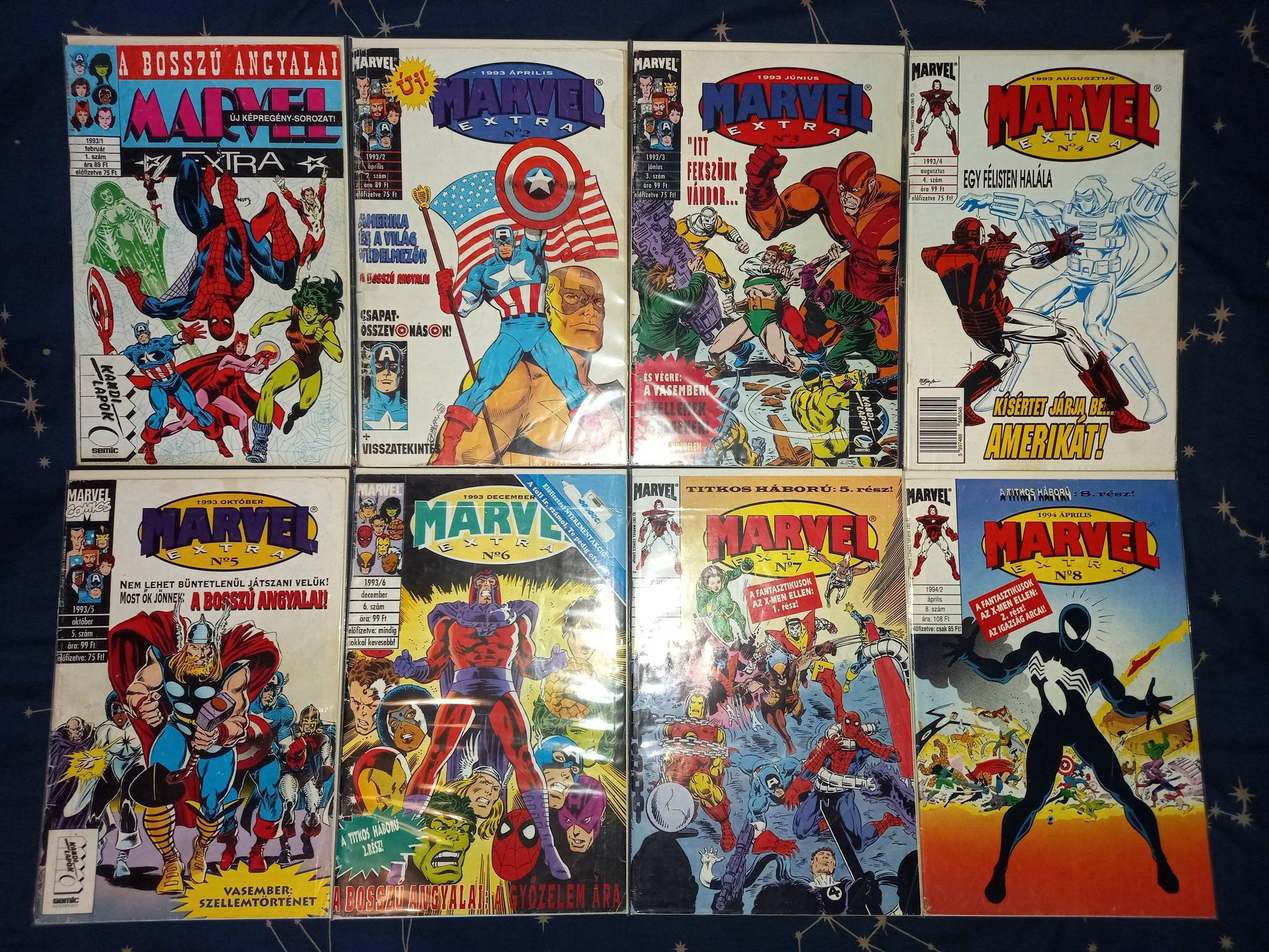comic: (34, 459, 349, 933), (902, 460, 1215, 930), (333, 467, 631, 919), (63, 28, 356, 473), (630, 470, 918, 914), (902, 47, 1182, 474), (349, 39, 626, 466), (627, 42, 903, 468)
